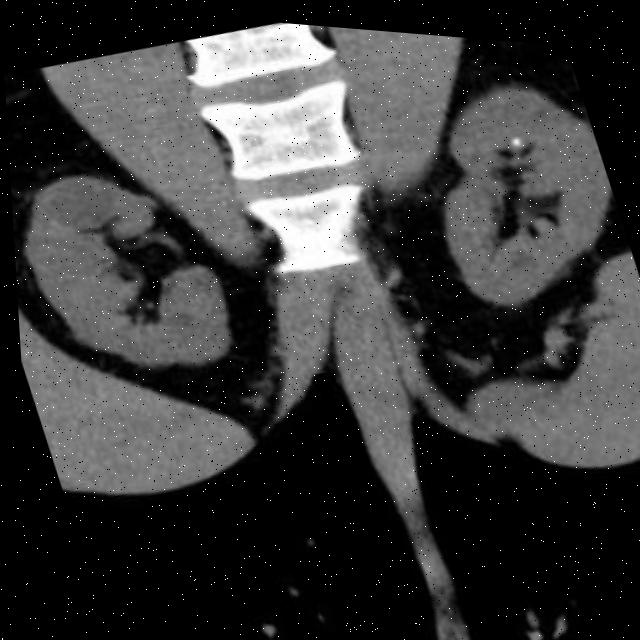Tas_Var: (510, 127, 525, 141)
